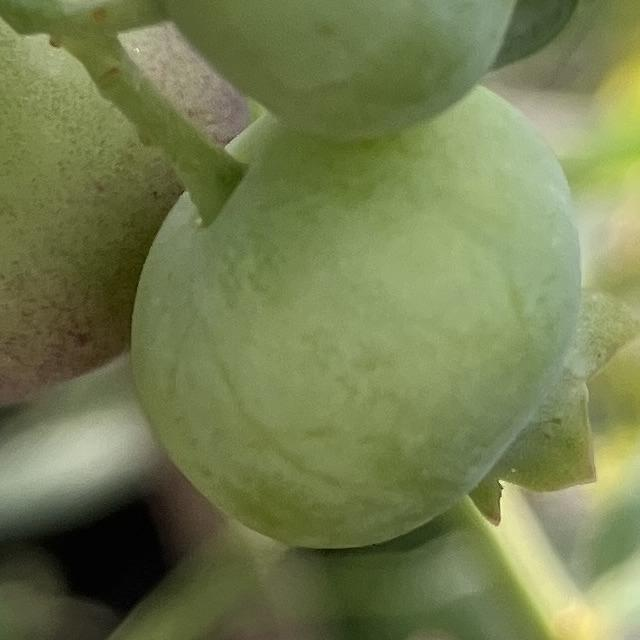Blueberries: (126, 82, 640, 569), (128, 0, 630, 126)
